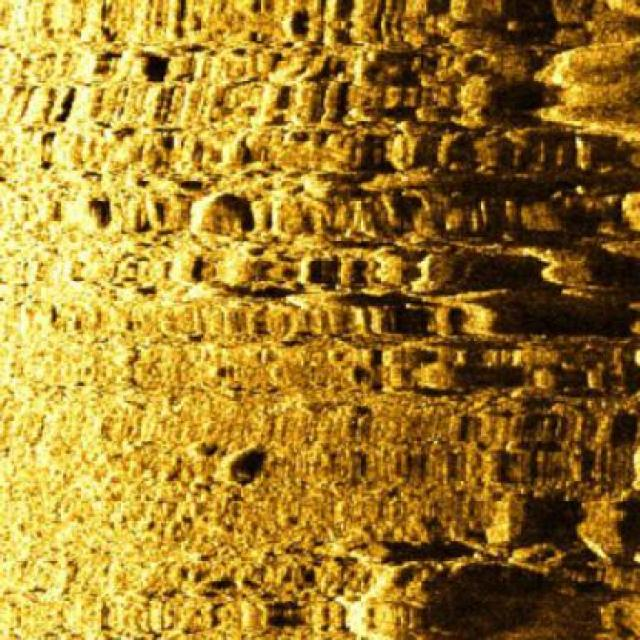bedrock group: (178, 0, 638, 638)
